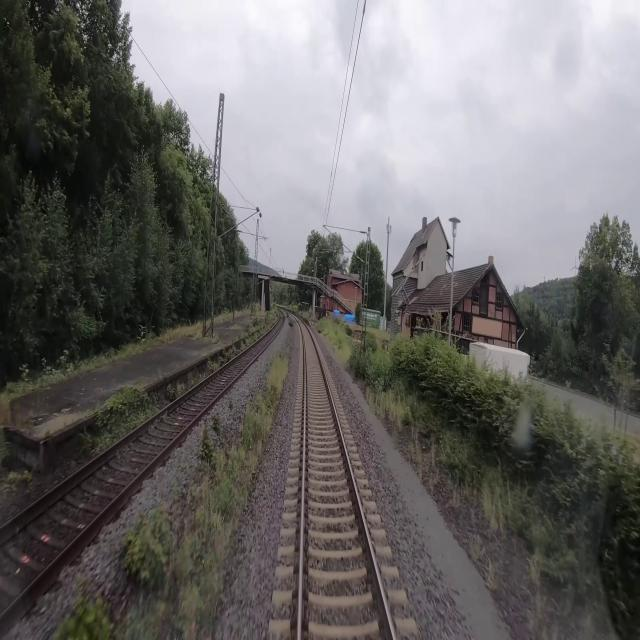Plant: (159, 350, 289, 637), (119, 499, 181, 596), (54, 563, 119, 639), (93, 401, 161, 450), (194, 425, 214, 470), (212, 414, 224, 437)
